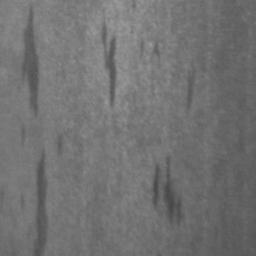Inclusion: (22, 9, 41, 116), (31, 154, 47, 256), (100, 23, 118, 108), (154, 168, 177, 220)
